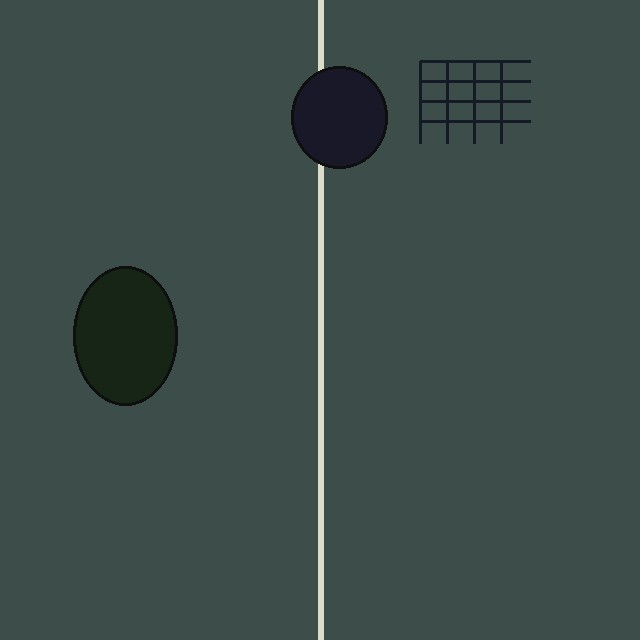alligator_crack: (420, 61, 530, 143)
pothole: (73, 266, 177, 405), (291, 66, 387, 168)
